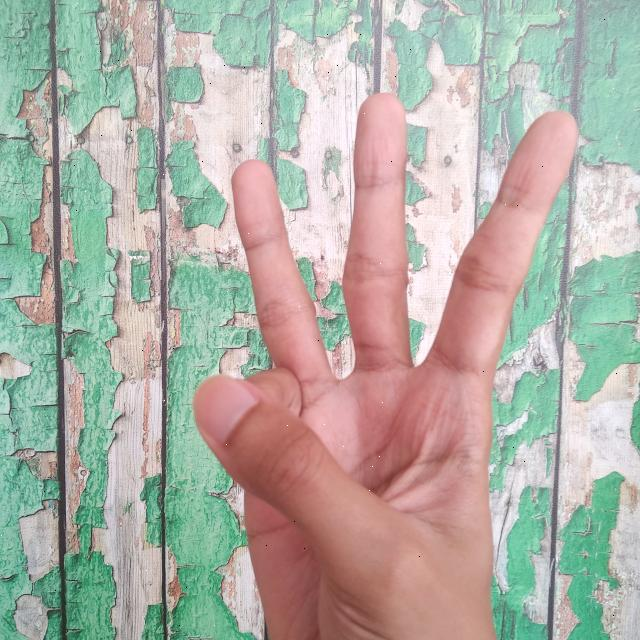W: (187, 84, 579, 640)
